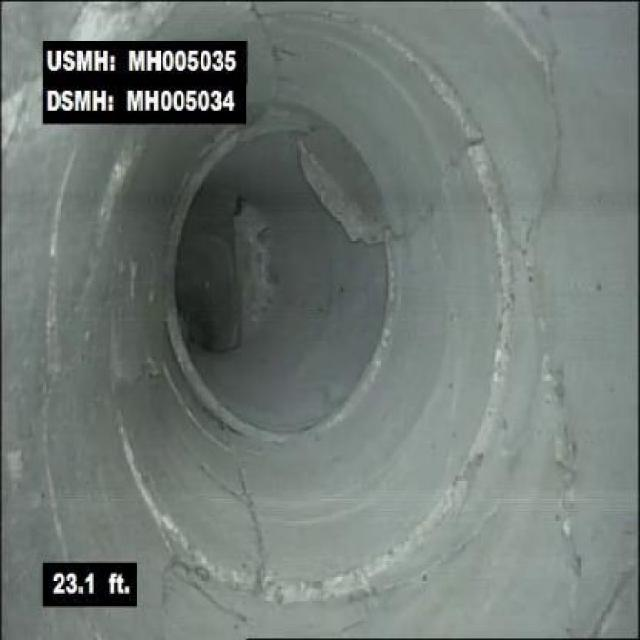Crack: (531, 309, 592, 611), (526, 0, 574, 246)
Joint offset: (272, 486, 468, 608), (469, 151, 523, 395), (363, 28, 475, 130)
